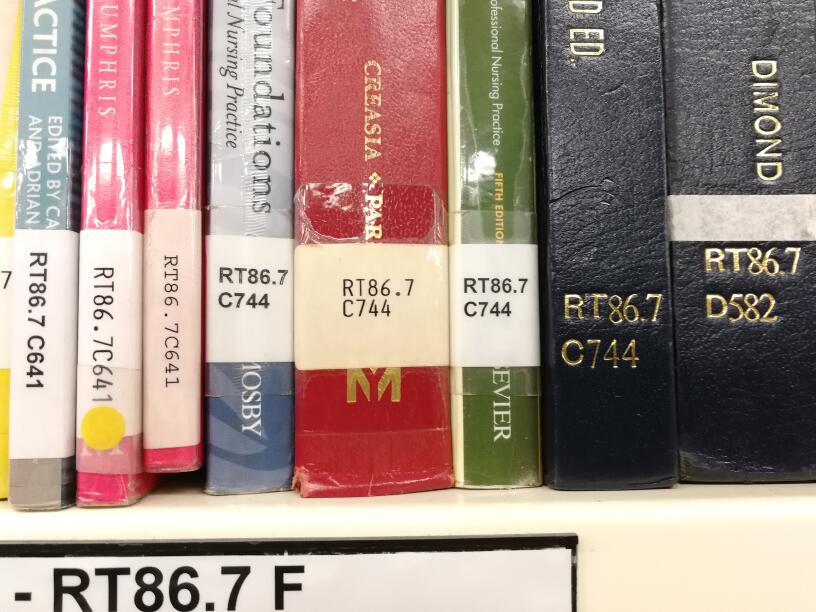booklabel: (557, 290, 665, 373), (702, 243, 805, 329), (86, 262, 119, 404), (22, 247, 52, 391), (158, 251, 185, 389), (338, 274, 418, 320), (215, 263, 289, 312), (460, 274, 531, 320)
